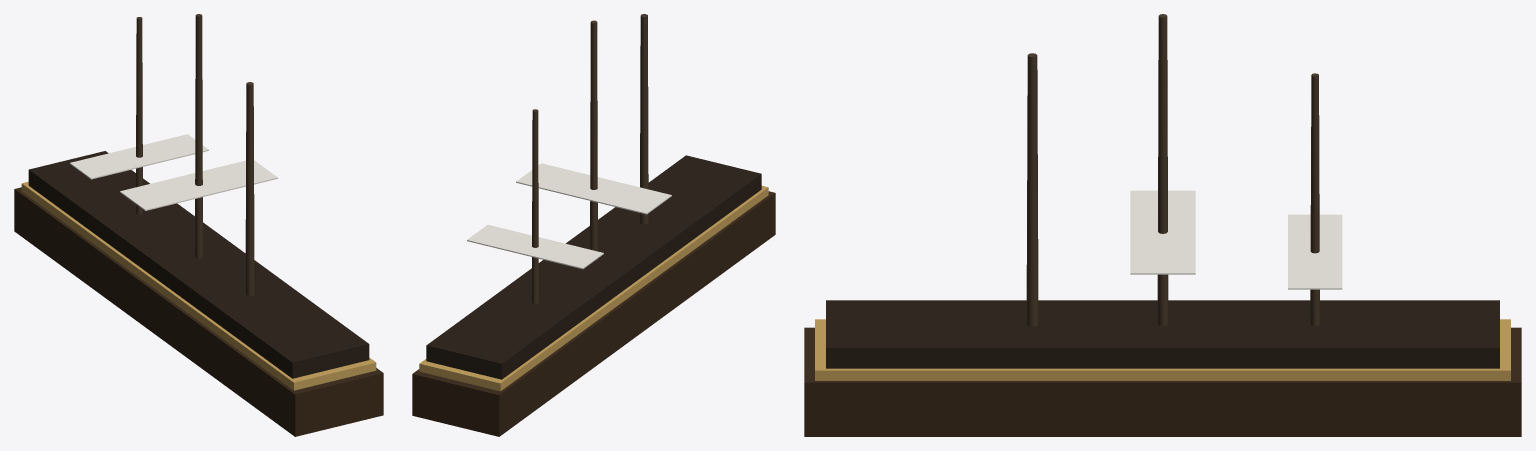
The model's file is ship-warship.glb.
3 views of the same model, side by side, from view 1: azimuth 30°, elevation 25°; view 2: azimuth 150°, elevation 25°; view 3: azimuth 270°, elevation 25° (orthographic). The views are drawn at different scales.
Visible parts, largest first — view 1: warship; view 2: warship; view 3: warship.
Part boxes in pixels (bbox=[...]): warship: bbox=[14, 14, 383, 436]; warship: bbox=[412, 14, 775, 436]; warship: bbox=[804, 14, 1521, 436].
Bounding box in the file's own units: 18 × 39.95 × 66.
